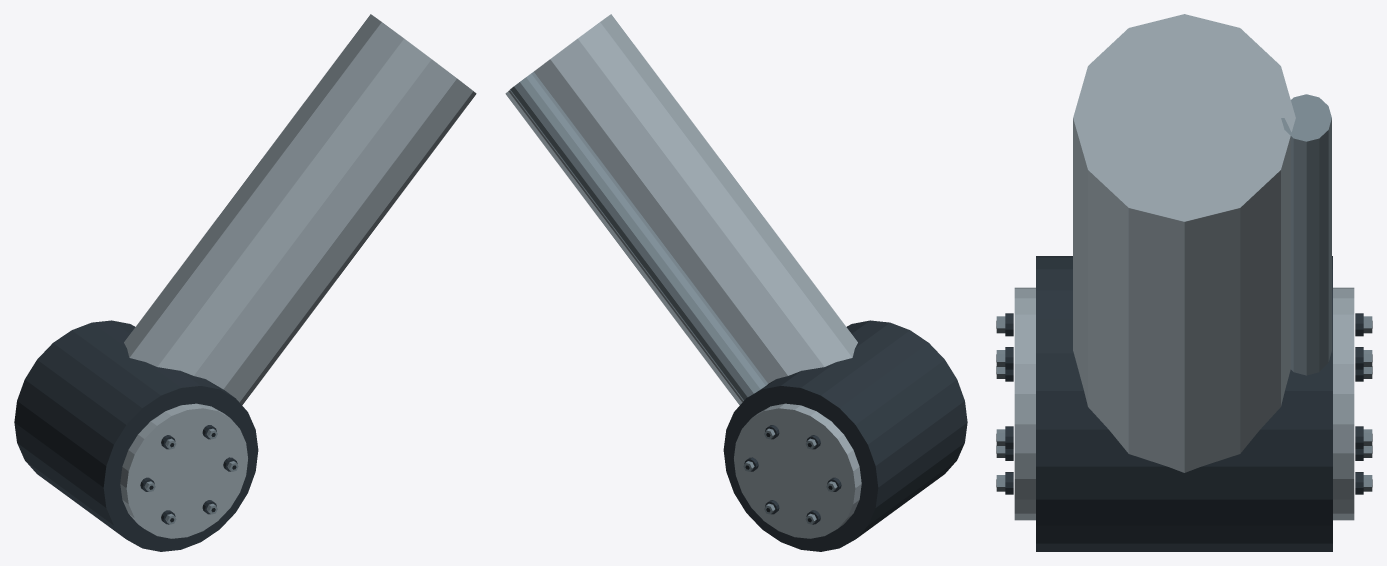
Rendered from SM_Lab_RobotArm__Link_1.fbx.
3 renders of one model, left to right at view 1: azimuth 30°, elevation 25°; view 2: azimuth 150°, elevation 25°; view 3: azimuth 270°, elevation 25°, orthographic. The views are drawn at different scales.
Parts seen in each view (by area): view 1: SM_Lab_RobotArm__Link_1; view 2: SM_Lab_RobotArm__Link_1; view 3: SM_Lab_RobotArm__Link_1.
Boxes of the visible parts, x1=… form: SM_Lab_RobotArm__Link_1: x1=14, y1=14, x2=476, y2=551; SM_Lab_RobotArm__Link_1: x1=505, y1=14, x2=967, y2=551; SM_Lab_RobotArm__Link_1: x1=996, y1=14, x2=1372, y2=551.
Bounding box in the file's own units: 73.56 × 35.5 × 75.28.
